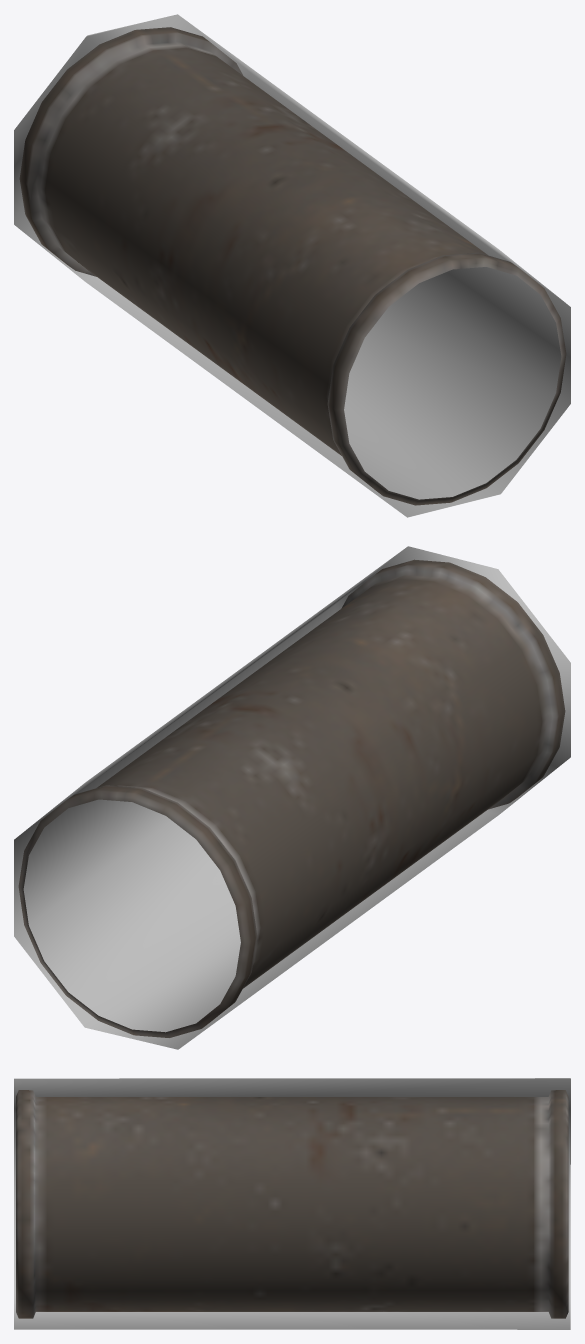
The model's file is SM_Pipe_Short.gltf.
3 views of the same model, one above another, from view 1: azimuth 30°, elevation 25°; view 2: azimuth 150°, elevation 25°; view 3: azimuth 270°, elevation 25° (orthographic). The views are drawn at different scales.
Parts seen in each view (by area): view 1: SM_Pipe_Short_LOD0, SM_Pipe_Short_ConvexHulls; view 2: SM_Pipe_Short_LOD0, SM_Pipe_Short_ConvexHulls; view 3: SM_Pipe_Short_LOD0, SM_Pipe_Short_ConvexHulls.
Boxes of the visible parts, x1,y1,x2,y2 form: SM_Pipe_Short_LOD0: [19, 27, 566, 505]; SM_Pipe_Short_ConvexHulls: [14, 14, 570, 517]; SM_Pipe_Short_LOD0: [18, 559, 565, 1037]; SM_Pipe_Short_ConvexHulls: [14, 546, 570, 1049]; SM_Pipe_Short_LOD0: [16, 1090, 568, 1318]; SM_Pipe_Short_ConvexHulls: [14, 1078, 570, 1329].
Size of what is drawn, in the model's own units: 0.1207 by 0.1208 by 0.2859.
